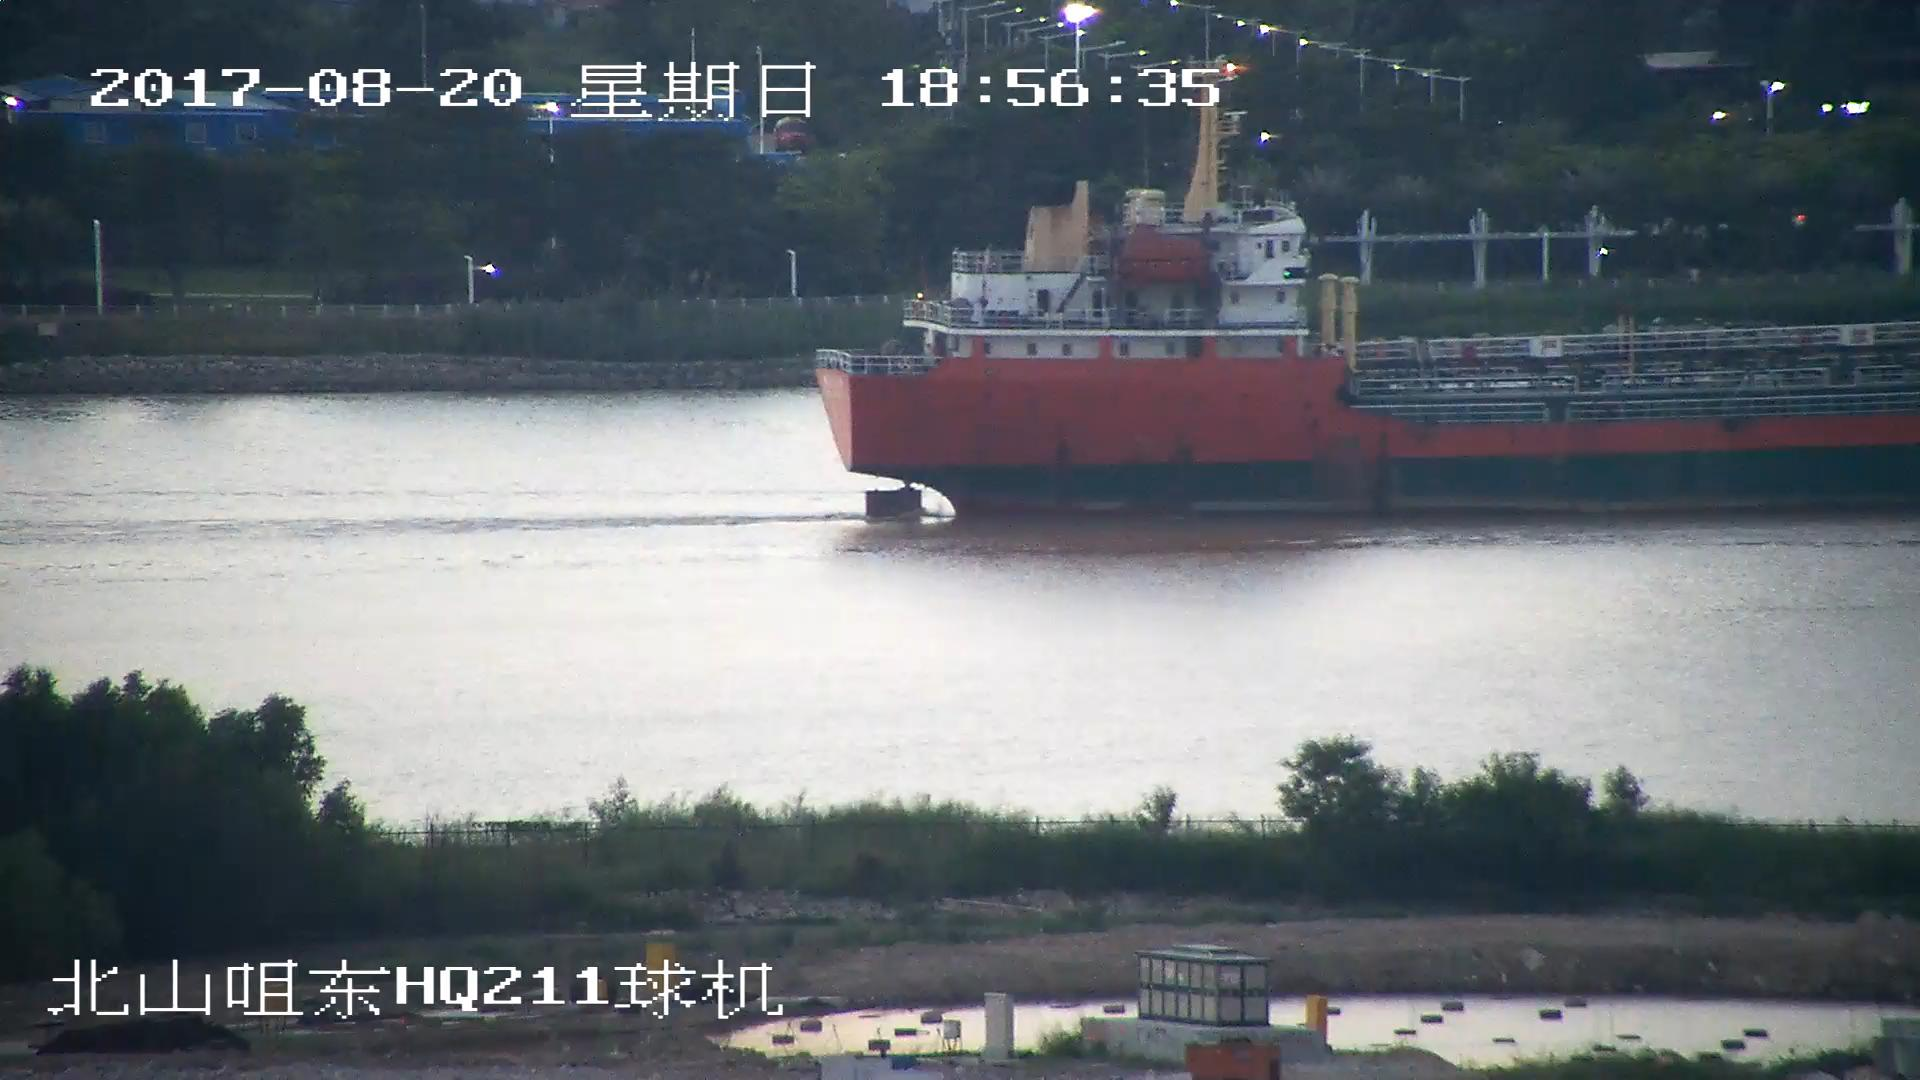Ship: (808, 127, 1920, 512)
